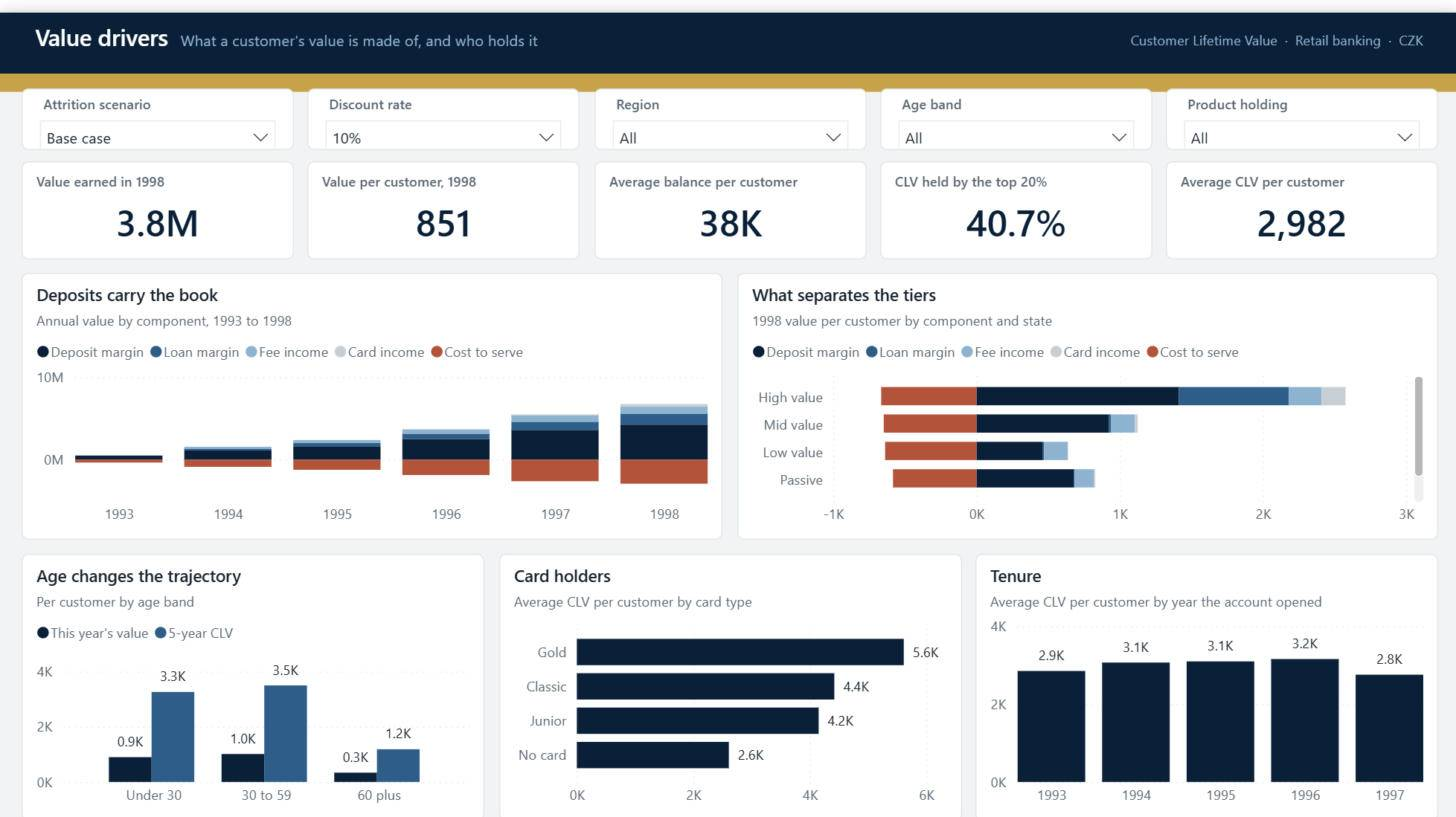

Layout of this report page (visuals, bound fields, positions):
{"tool":"powerbi","page":{"name":"Value drivers","canvas":[1280,720],"ordinal":2},"visuals":[{"type":"textbox","box":[0,0,1280,54],"z":1000},{"type":"textbox","box":[0,54,1280,3],"z":2000},{"type":"textbox","box":[20,0,760,54],"z":3000},{"type":"textbox","box":[840,8,420,44],"z":4000},{"type":"slicer","fields":{"Values":["Scenario.Scenario"]},"box":[20,66,238.4,54],"z":5000},{"type":"slicer","fields":{"Values":["Discount Rate.Discount rate"]},"box":[270.4,66,238.4,54],"z":6000},{"type":"slicer","fields":{"Values":["Customer.Region"]},"box":[520.8,66,238.4,54],"z":7000},{"type":"slicer","fields":{"Values":["Customer.Age band"]},"box":[771.2,66,238.4,54],"z":8000},{"type":"slicer","fields":{"Values":["Customer.Product holding"]},"box":[1021.6,66,238.4,54],"z":9000},{"type":"card","title":"Value earned in 1998","fields":{"Values":["Key Measures.Current annual value"]},"box":[20,130,238.4,86],"z":10000},{"type":"card","title":"Value per customer, 1998","fields":{"Values":["Key Measures.Average current value"]},"box":[270.4,130,238.4,86],"z":11000},{"type":"card","title":"Average balance per customer","fields":{"Values":["Key Measures.Average balance 1998"]},"box":[520.8,130,238.4,86],"z":12000},{"type":"card","title":"CLV held by the top 20%","fields":{"Values":["Key Measures.Top 20% share of CLV"]},"box":[771.2,130,238.4,86],"z":13000},{"type":"card","title":"Average CLV per customer","fields":{"Values":["Key Measures.Average CLV"]},"box":[1021.6,130,238.4,86],"z":14000},{"type":"columnChart","title":"Deposits carry the book","fields":{"Category":["Calendar Year.Year"],"Series":["Value Component.Component"],"Y":["Key Measures.Value component amount"]},"box":[20,228,614,234],"z":15000},{"type":"barChart","title":"What separates the tiers","fields":{"Category":["Customer.Current state"],"Series":["Value Component.Component"],"Y":["Key Measures.Value component per customer 1998"]},"box":[646,228,614,234],"z":16000},{"type":"clusteredColumnChart","title":"Age changes the trajectory","fields":{"Category":["Customer.Age band"],"Y":["Key Measures.Average current value","Key Measures.Average CLV"]},"box":[20,474,405.3,234],"z":17000},{"type":"clusteredBarChart","title":"Card holders","fields":{"Category":["Customer.Card"],"Y":["Key Measures.Average CLV"]},"box":[437.3,474,405.3,234],"z":18000},{"type":"clusteredColumnChart","title":"Tenure","fields":{"Category":["Customer.Open year"],"Y":["Key Measures.Average CLV"]},"box":[854.7,474,405.3,234],"z":19000}]}

Visuals, with their boxes in screenshot pixels (x1, y1, x2, y2), scaled from the page's 1280x720 canvas onto the 1456x817 screenshot:
textbox: 0 0 1455 61
textbox: 0 61 1455 65
textbox: 23 0 887 61
textbox: 956 9 1433 59
slicer - Scenario.Scenario: 23 75 294 136
slicer - Discount Rate.Discount rate: 308 75 579 136
slicer - Customer.Region: 592 75 864 136
slicer - Customer.Age band: 877 75 1148 136
slicer - Customer.Product holding: 1162 75 1433 136
"Value earned in 1998" card: 23 148 294 245
"Value per customer, 1998" card: 308 148 579 245
"Average balance per customer" card: 592 148 864 245
"CLV held by the top 20%" card: 877 148 1148 245
"Average CLV per customer" card: 1162 148 1433 245
"Deposits carry the book" columnChart: 23 259 721 524
"What separates the tiers" barChart: 735 259 1433 524
"Age changes the trajectory" clusteredColumnChart: 23 538 484 803
"Card holders" clusteredBarChart: 497 538 958 803
"Tenure" clusteredColumnChart: 972 538 1433 803
